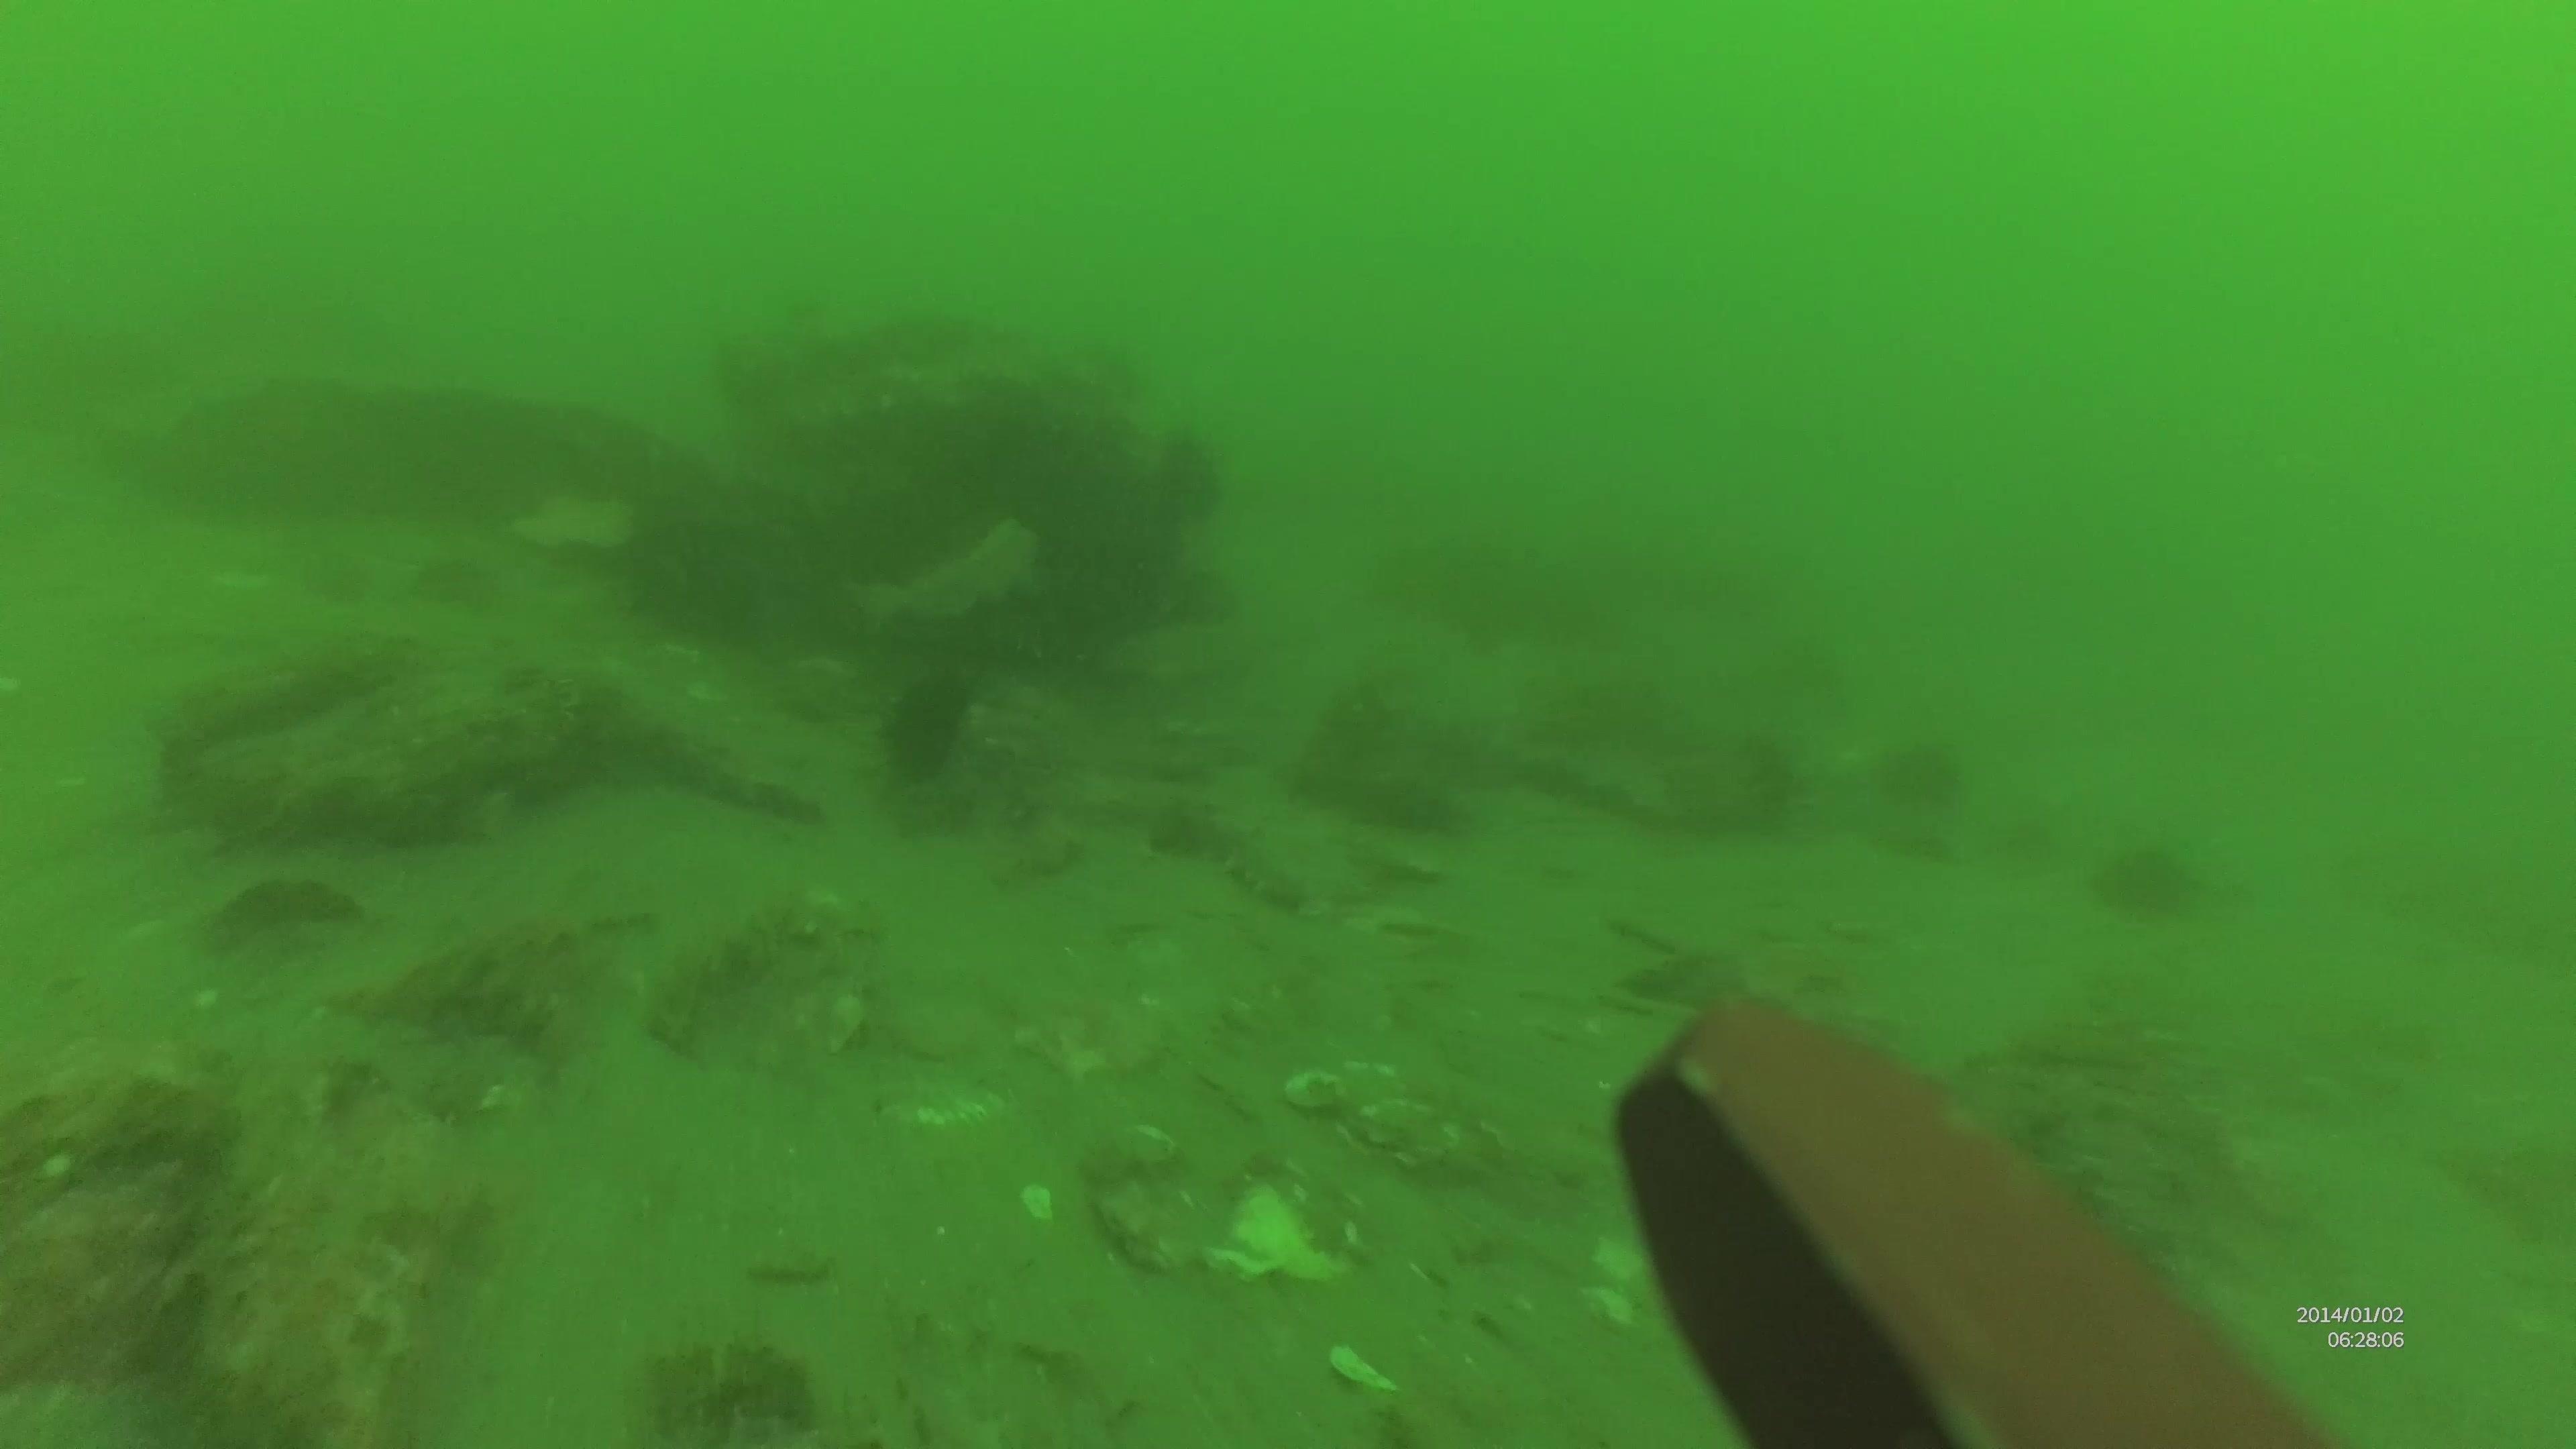echinus: (883, 669, 1005, 789)
